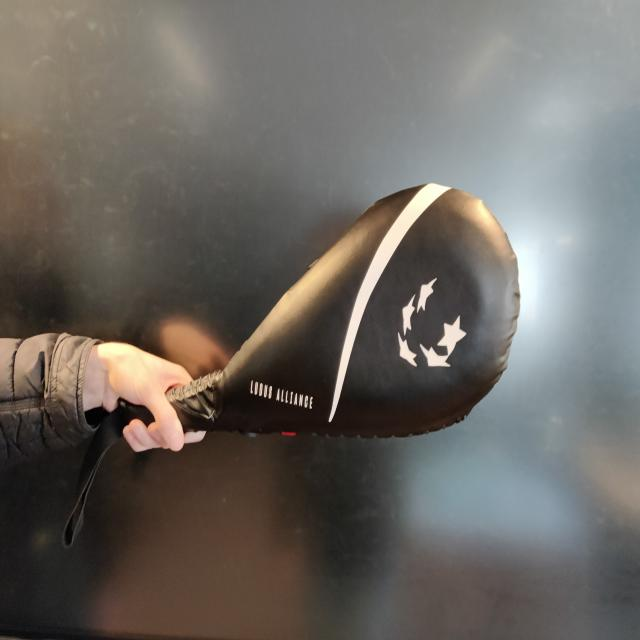paddle: (166, 176, 524, 444)
